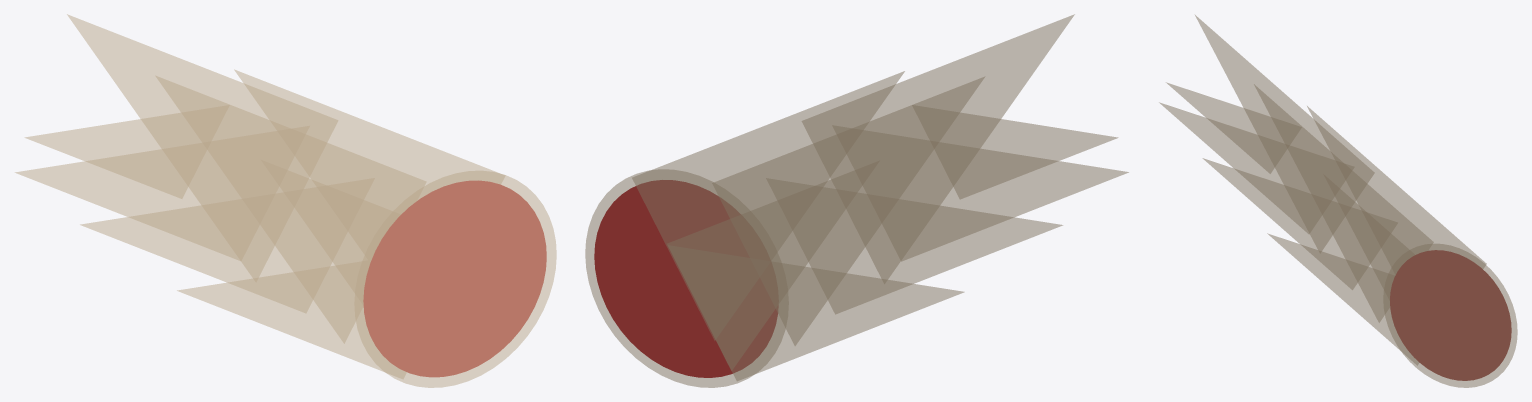
Rendered from comete.glb.
The picture shows the model from 3 angles, left to right: view 1: azimuth 30°, elevation 25°; view 2: azimuth 150°, elevation 25°; view 3: azimuth 330°, elevation 25°; orthographic projection. The views are drawn at different scales.
Visible parts, largest first — view 1: triangle 8; view 2: triangle 8; view 3: triangle 8.
Part boxes in pixels (<box>): triangle 8: <box>15,14,556,387</box>; triangle 8: <box>585,14,1128,387</box>; triangle 8: <box>1159,15,1517,387</box>.
Size of the model in its own units: 1.34 by 1.1 by 0.0104.
